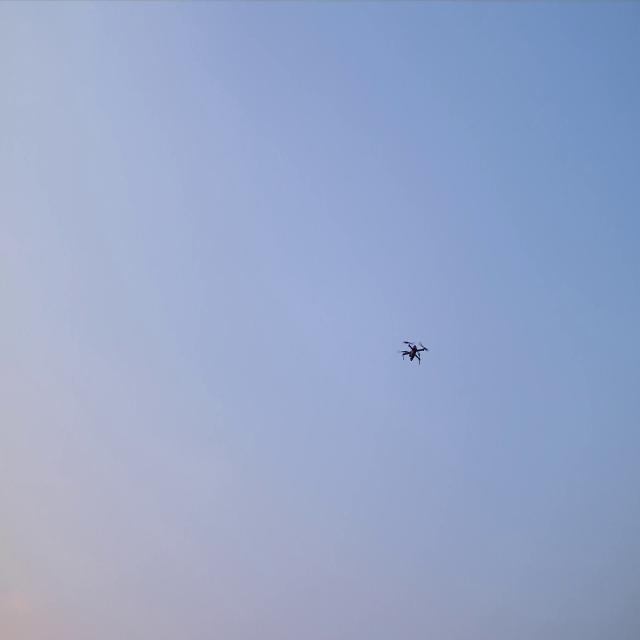UAV: (396, 336, 428, 366)
